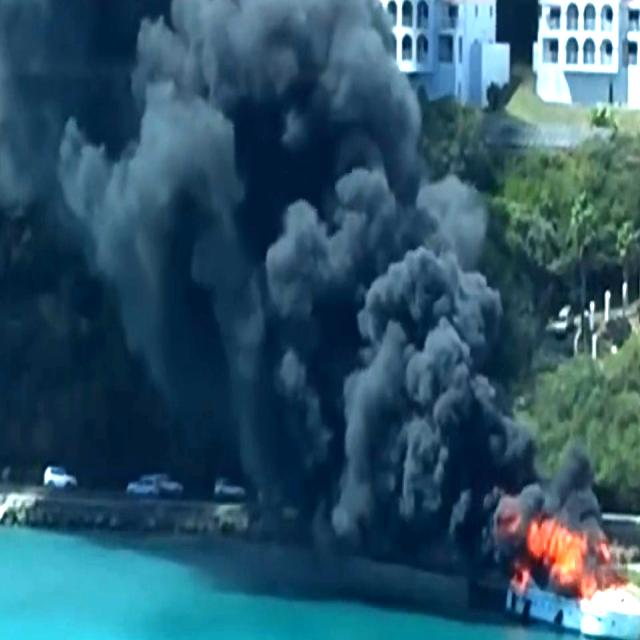smoke: (112, 0, 400, 332), (274, 104, 487, 529)
